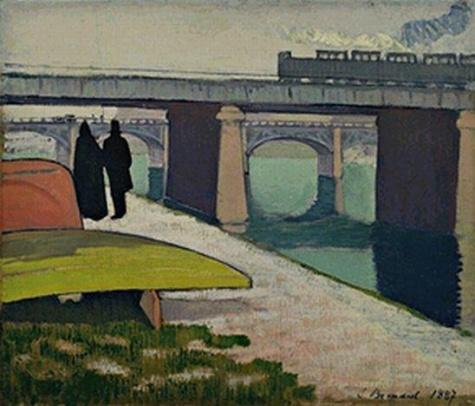person: (72, 114, 110, 216), (103, 117, 137, 220)
